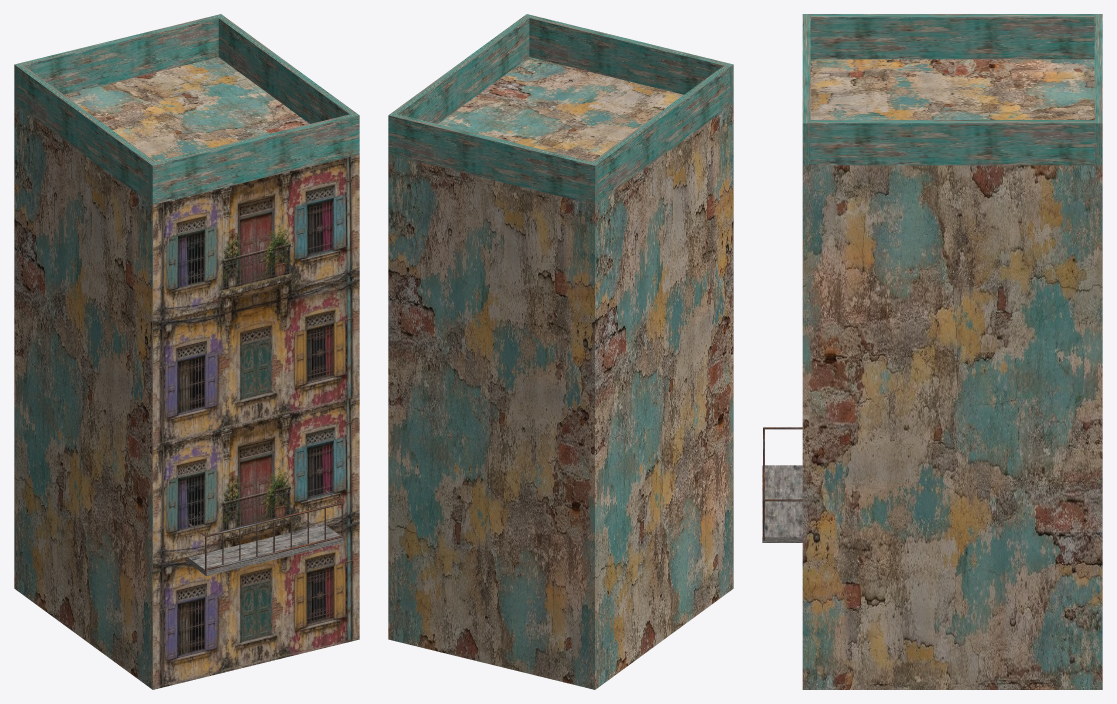
The model's file is bld_oldhaka_block_1.glb.
3 renders of one model, left to right at view 1: azimuth 30°, elevation 25°; view 2: azimuth 150°, elevation 25°; view 3: azimuth 270°, elevation 25°, orthographic. The views are drawn at different scales.
Parts seen in each view (by area): view 1: bld_oldhaka_block_1; view 2: bld_oldhaka_block_1; view 3: bld_oldhaka_block_1.
Boxes of the visible parts, left/top/right/bottom form: bld_oldhaka_block_1: left=14, top=14, right=359, bottom=689; bld_oldhaka_block_1: left=388, top=14, right=733, bottom=689; bld_oldhaka_block_1: left=762, top=14, right=1102, bottom=689.
Size of the model in its own units: 5 by 12.1 by 6.58.
5 materials, 5 textured.
